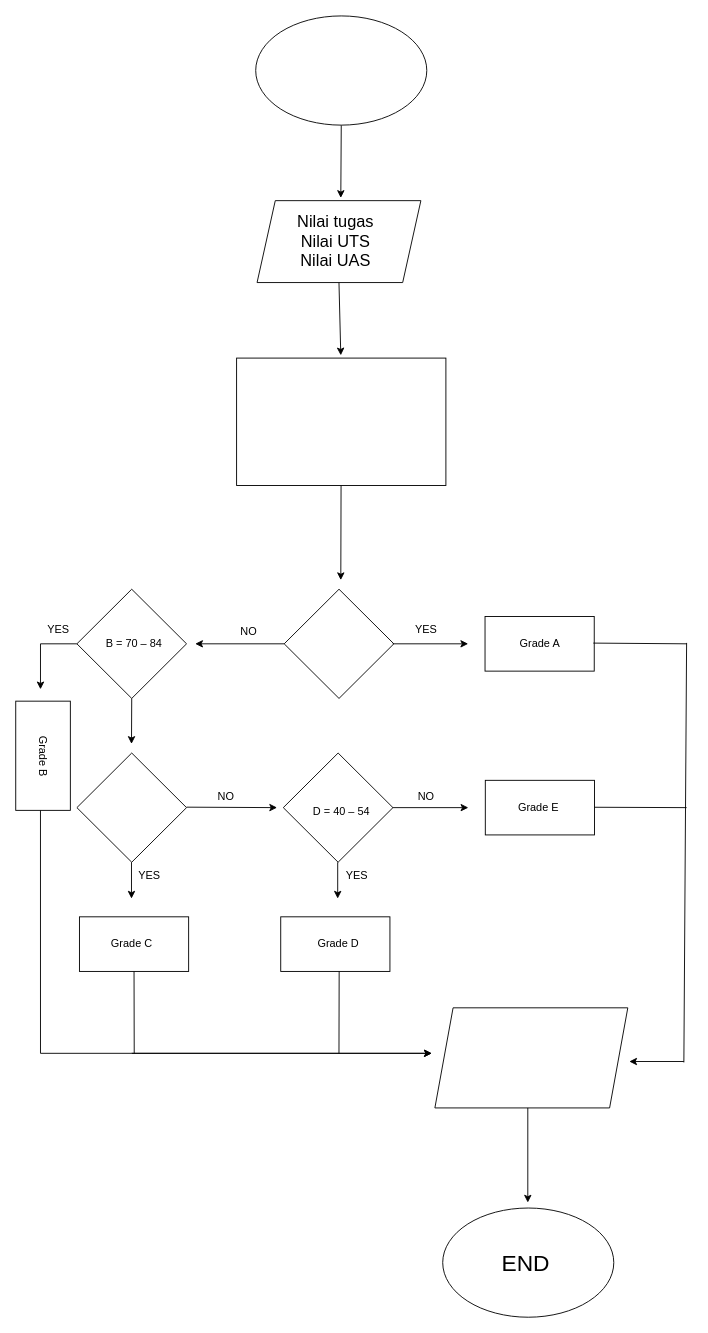
Image size: 708x1333. Some labels were removed from this diagram. The centre of each missing label's shape, as x and y in pixels:
A = 85 - 100: point 338,643
C = 55 – 69: point 131,807
Nilai akhir dan Grade: point 531,1057
Rumus: Nilai Akhir = (0.3 * tugas) + (0.3 * UTS) + (0.4 * UAS): point 341,421
START: point 341,70
